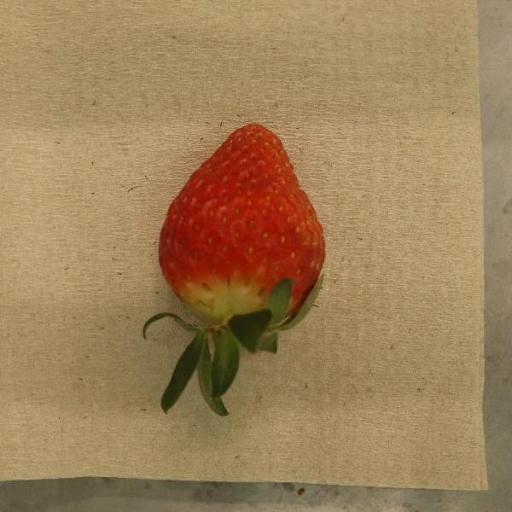Strawberry: (142, 124, 325, 418)
